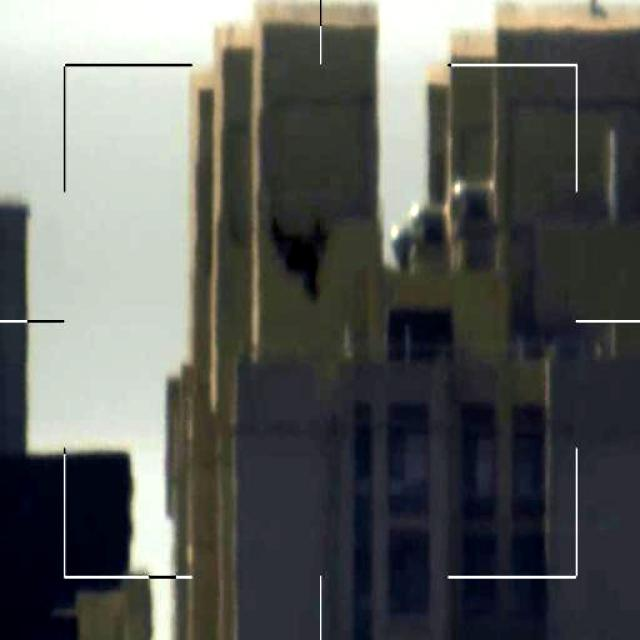bird: (265, 218, 331, 295)
